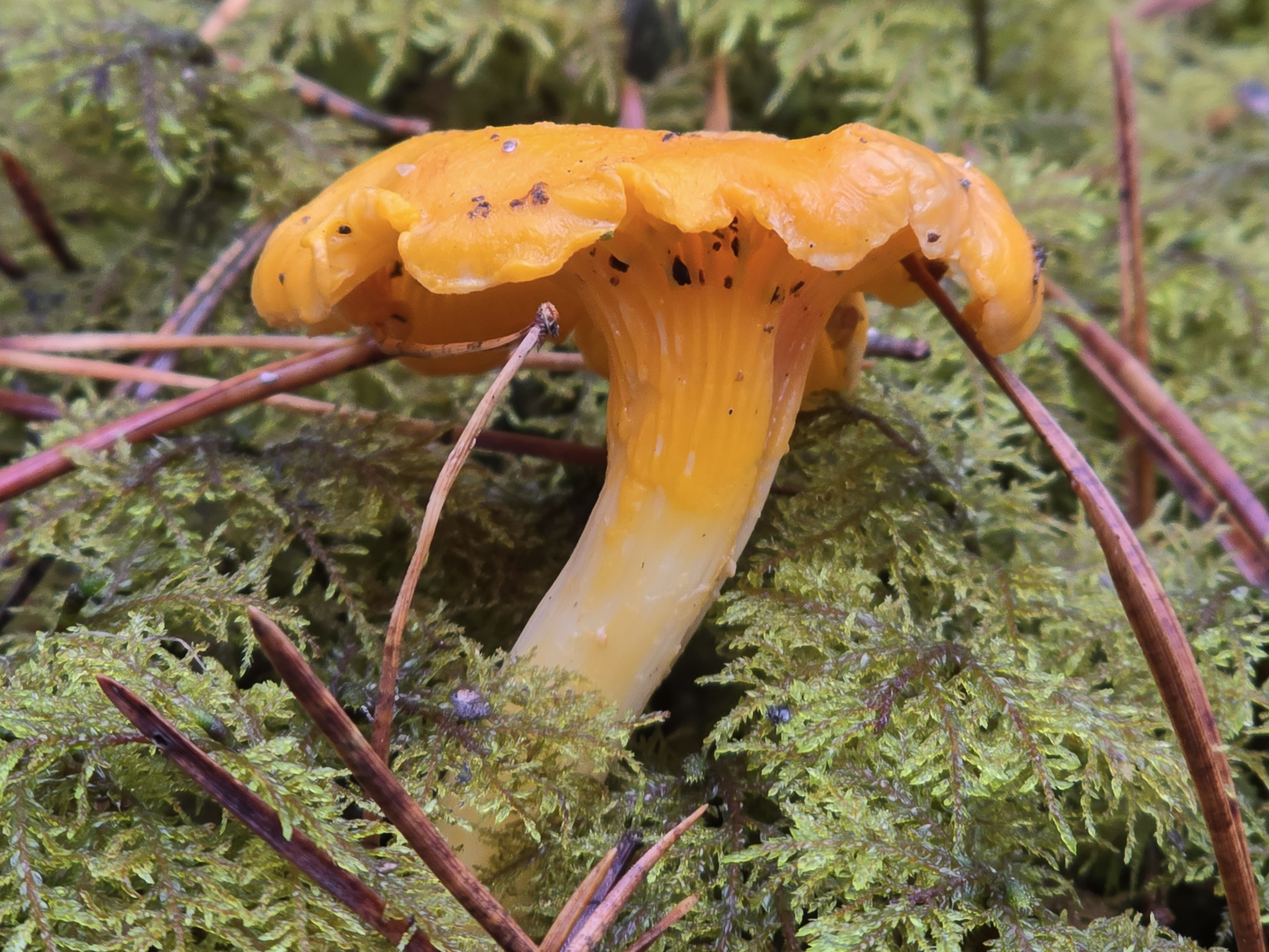stem: (512, 467, 760, 713)
underside: (342, 220, 920, 501)
